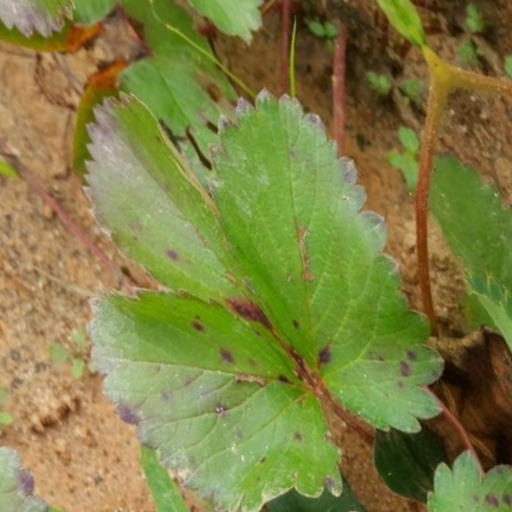Leaf Spot: (121, 112, 279, 493), (279, 196, 460, 503), (262, 38, 370, 339)
